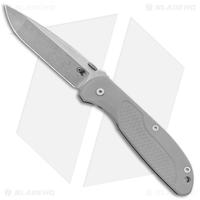knife: (3, 3, 189, 190)
